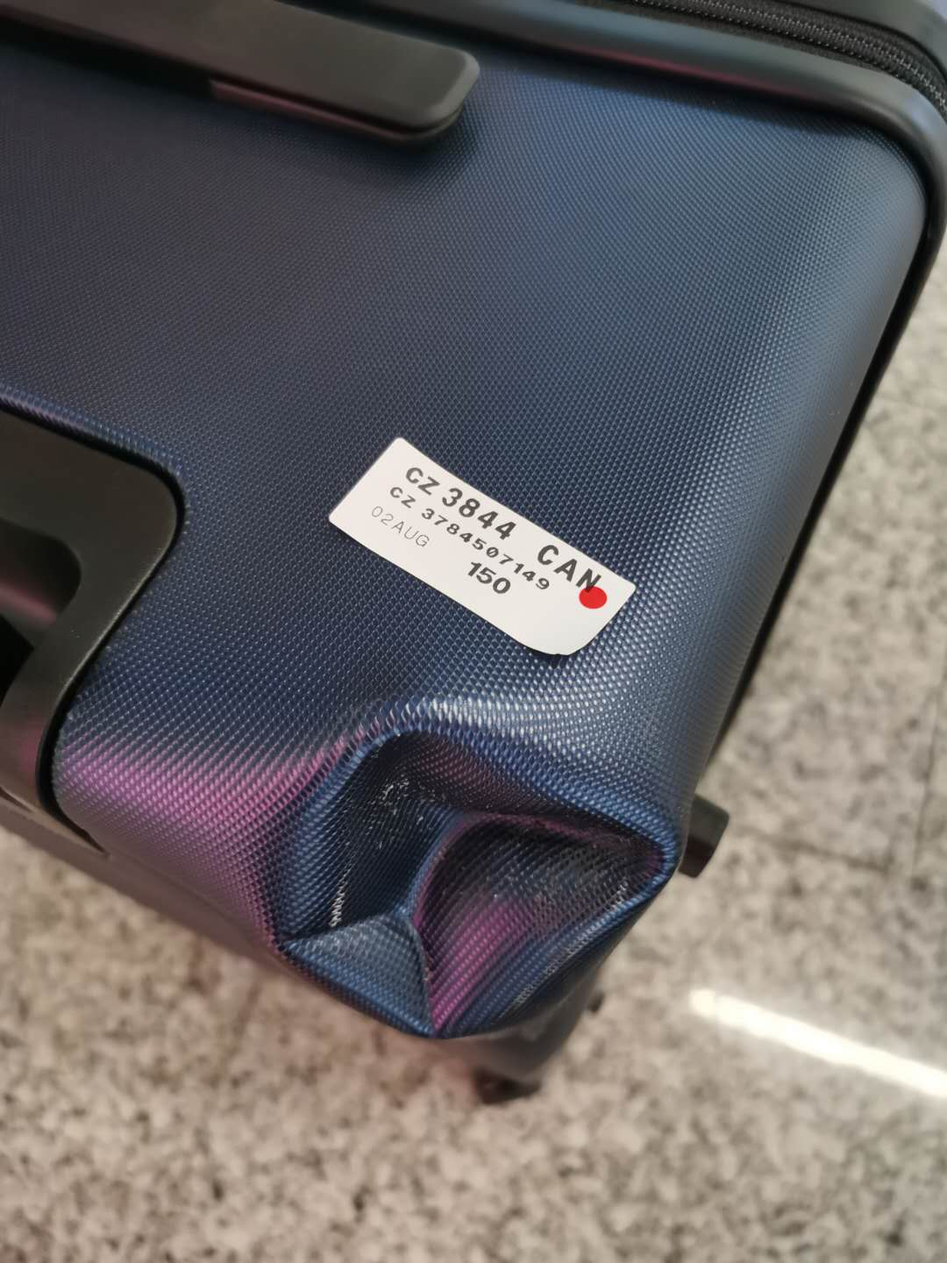hollow: (262, 714, 680, 1041)
